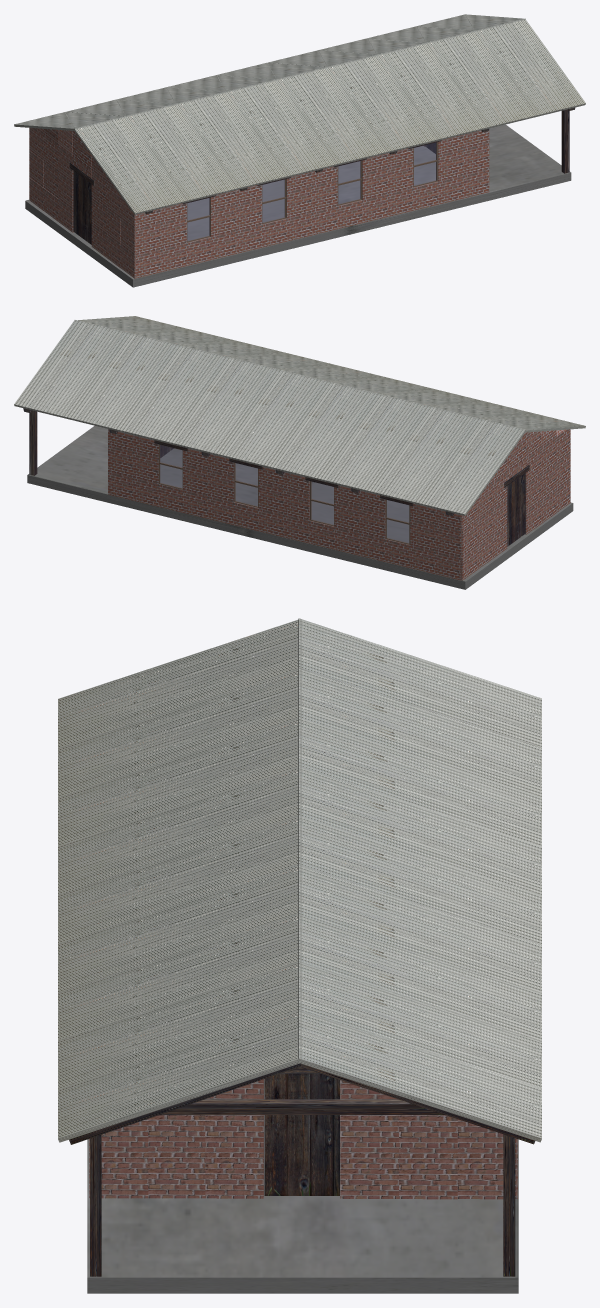
File: Barracks.fbx
The picture shows the model from 3 angles, top to bottom: view 1: azimuth 30°, elevation 25°; view 2: azimuth 150°, elevation 25°; view 3: azimuth 270°, elevation 25°; orthographic projection. The views are drawn at different scales.
Visible parts, largest first — view 1: pCube174, pCube165, pCube173, pCube169, pCube166, pCube167, pCube171, pCube168, pCube170, pCube172, pCube155, pCube258 (+57 smaller); view 2: pCube174, pCube155, pCube156, pCube161, pCube157, pCube159, pCube158, pCube162, pCube160, pCube163, pCube165, pCube258 (+59 smaller); view 3: pCube174, pCube163, pCube173, pCube155, pCube160, pCube156, pCube165, pCube172, pCube159, pCube158, pCube157, pCube166 (+26 smaller).
Part boxes in pixels (box(x1,y1,x2,y2)): pCube174: box(25, 124, 571, 287); pCube165: box(74, 116, 185, 214); pCube173: box(475, 18, 585, 117); pCube169: box(276, 67, 386, 165); pCube166: box(125, 104, 236, 202); pCube167: box(176, 91, 286, 190); pCube171: box(376, 43, 486, 141); pCube168: box(226, 79, 336, 177); pCube170: box(326, 55, 436, 153); pCube172: box(427, 31, 534, 128); pCube155: box(14, 112, 125, 130); pCube258: box(73, 171, 91, 244); pCube174: box(27, 426, 573, 589); pCube155: box(414, 417, 525, 515); pCube156: box(363, 405, 474, 503); pCube161: box(112, 343, 222, 442); pCube157: box(313, 392, 424, 490); pCube159: box(212, 368, 322, 466); pCube158: box(262, 380, 372, 478); pCube162: box(63, 331, 172, 429); pCube160: box(161, 356, 272, 453); pCube163: box(14, 320, 122, 417); pCube165: box(474, 413, 585, 432); pCube258: box(507, 473, 525, 546); pCube174: box(87, 1079, 518, 1293); pCube163: box(297, 1011, 541, 1142); pCube173: box(58, 1010, 301, 1142); pCube155: box(298, 618, 541, 748); pCube160: box(298, 865, 541, 994); pCube156: box(298, 668, 541, 797); pCube165: box(58, 619, 301, 748); pCube172: box(58, 961, 301, 1089); pCube159: box(298, 816, 541, 945); pCube158: box(298, 766, 541, 895); pCube157: box(298, 718, 541, 846); pCube166: box(58, 668, 301, 797).
Bounding box in the file's own units: 17.7 × 4.55 × 8.23.
Materials: 6 (4 with a texture image).
